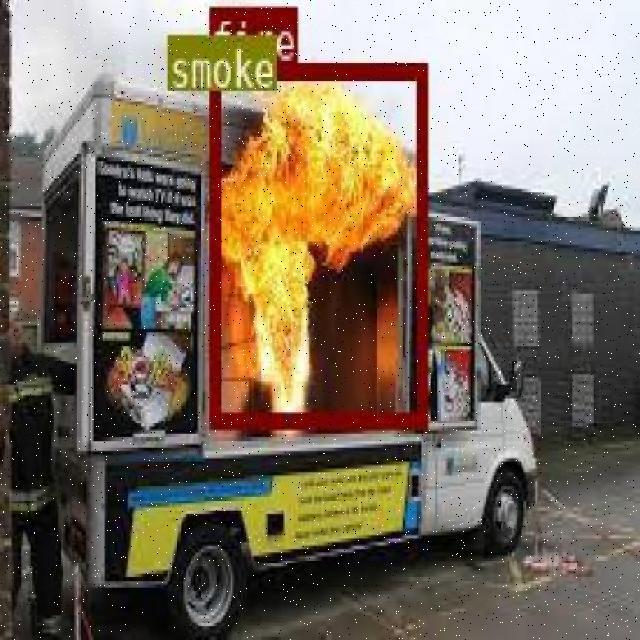Smoke: (102, 31, 136, 84)
